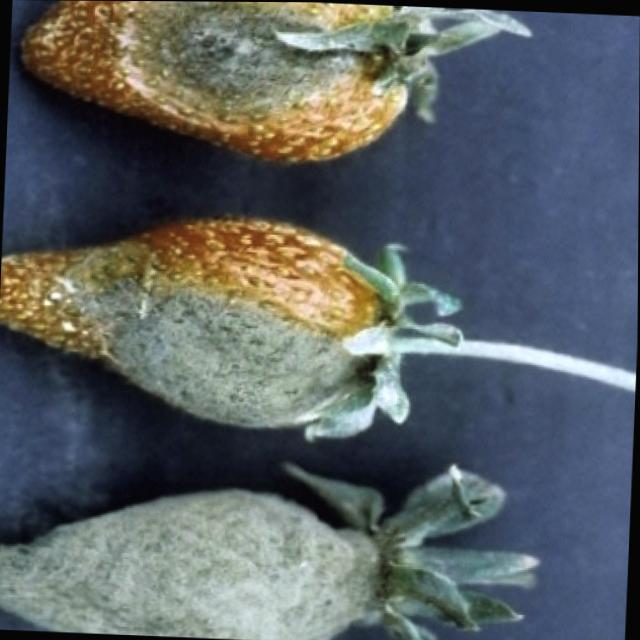Gray Mold: (0, 216, 460, 440), (0, 459, 538, 640), (18, 0, 531, 164)
